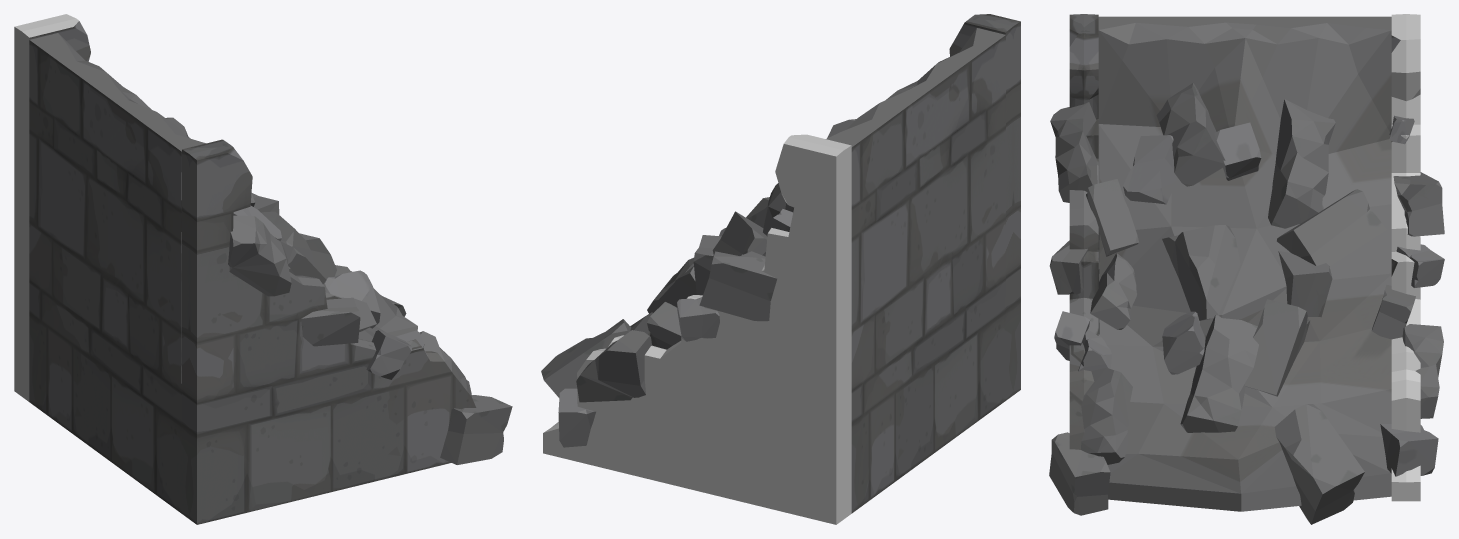
Rendered from SM_Bld_Wall_L_Damaged_02.fbx.
3 renders of one model, left to right at view 1: azimuth 30°, elevation 25°; view 2: azimuth 150°, elevation 25°; view 3: azimuth 270°, elevation 25°, orthographic. The views are drawn at different scales.
Parts seen in each view (by area): view 1: SM_Bld_Wall_L_Damaged_02; view 2: SM_Bld_Wall_L_Damaged_02; view 3: SM_Bld_Wall_L_Damaged_02.
Part boxes in pixels (x1,y1,x2,y2): SM_Bld_Wall_L_Damaged_02: [14, 14, 512, 524]; SM_Bld_Wall_L_Damaged_02: [541, 14, 1020, 524]; SM_Bld_Wall_L_Damaged_02: [1049, 14, 1444, 524].
Bounding box in the file's own units: 588 × 628 × 614.
